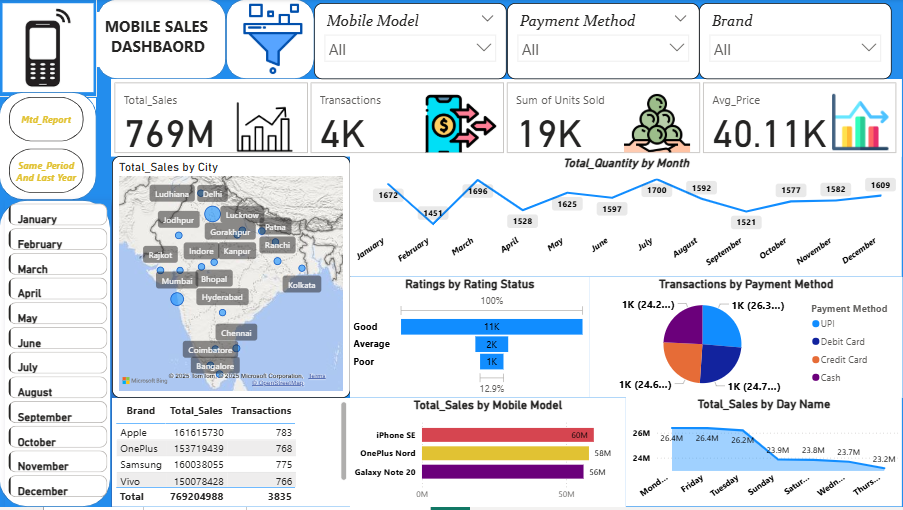

The page's visual inventory and layout, read from the dashboard file:
{"tool":"powerbi","page":{"name":"Dashboard","canvas":[1280,720],"ordinal":0},"visuals":[{"type":"image","box":[0,0,138.8,138.8],"z":0},{"type":"shape","box":[0,131.5,138.2,153.1],"z":1000},{"type":"shape","box":[0,285,158.3,435],"z":2000},{"type":"advancedSlicerVisual","fields":{"Values":["Custom_calender.Date.Variation.Date Hierarchy.Month"]},"box":[8.3,285,150,435],"z":3000},{"type":"cardVisual","fields":{"Data":["Sales_Data.Total_Sales","Sales_Data.Transactions","Sum(Sales_Data.Units Sold)","Sales_Data.Avg_Price"]},"box":[159.2,113.4,1120.8,110.1],"z":4000},{"type":"slicer","fields":{"Values":["Sales_Data.Mobile Model"]},"box":[447,5.1,272.6,108.4],"z":5000},{"type":"slicer","fields":{"Values":["Sales_Data.Payment Method"]},"box":[719.6,5.1,272.6,108.4],"z":6000},{"type":"slicer","fields":{"Values":["Sales_Data.Brand"]},"box":[992.2,5.1,272.6,108.4],"z":7000},{"type":"shape","box":[321.7,0,125.3,113.4],"z":8000},{"type":"image","box":[321.7,0,132.1,113.4],"z":9000},{"type":"shape","box":[138.8,0,182.9,113.4],"z":10000},{"type":"textbox","box":[138.8,18.6,172.7,77.9],"z":11000},{"type":"map","fields":{"Category":["Sales_Data.City"],"Size":["Sales_Data.Total_Sales"]},"box":[159.8,223,337.9,342.9],"z":12000},{"type":"lineChart","fields":{"Category":["Custom_calender.Date.Variation.Date Hierarchy.Month"],"Y":["Sales_Data.Total_Quantity"]},"box":[497.7,223,782.3,171.4],"z":13000},{"type":"funnel","title":"Ratings by Rating Status","fields":{"Category":["Sales_Data.Rating Status"],"Y":["Sum(Sales_Data.Customer Ratings)"]},"box":[497.7,394.5,339.6,171.4],"z":14000},{"type":"pieChart","fields":{"Category":["Sales_Data.Payment Method"],"Y":["Sales_Data.Transactions"]},"box":[837.2,394.5,442.8,171.4],"z":15000},{"type":"clusteredBarChart","fields":{"Y":["Sales_Data.Total_Sales"],"Category":["Sales_Data.Mobile Model"]},"box":[497.7,565.9,391.2,154.8],"z":16000},{"type":"areaChart","fields":{"Category":["Custom_calender.Day Name"],"Y":["Sales_Data.Total_Sales"]},"box":[888.8,564.3,391.2,154.8],"z":17000},{"type":"tableEx","fields":{"Values":["Sales_Data.Brand","Sales_Data.Total_Sales","Sales_Data.Transactions"]},"box":[160,566,338,154],"z":18000},{"type":"pageNavigator","box":[8.5,138.9,117.6,136.1],"z":19000}]}

Visuals, with their boxes in screenshot pixels (x1, y1, x2, y2), scaled from the page's 1280x720 canvas onto the 903x510 screenshot:
image: {"left": 0, "top": 0, "right": 98, "bottom": 98}
shape: {"left": 0, "top": 93, "right": 97, "bottom": 202}
shape: {"left": 0, "top": 202, "right": 112, "bottom": 509}
advancedSlicerVisual - Custom_calender.Date.Variation.Date Hierarchy.Month: {"left": 6, "top": 202, "right": 112, "bottom": 509}
cardVisual - Sales_Data.Total_Sales x Sales_Data.Transactions: {"left": 112, "top": 80, "right": 902, "bottom": 158}
slicer - Sales_Data.Mobile Model: {"left": 315, "top": 4, "right": 508, "bottom": 80}
slicer - Sales_Data.Payment Method: {"left": 508, "top": 4, "right": 700, "bottom": 80}
slicer - Sales_Data.Brand: {"left": 700, "top": 4, "right": 892, "bottom": 80}
shape: {"left": 227, "top": 0, "right": 315, "bottom": 80}
image: {"left": 227, "top": 0, "right": 320, "bottom": 80}
shape: {"left": 98, "top": 0, "right": 227, "bottom": 80}
textbox: {"left": 98, "top": 13, "right": 220, "bottom": 68}
map - Sales_Data.City x Sales_Data.Total_Sales: {"left": 113, "top": 158, "right": 351, "bottom": 401}
lineChart - Custom_calender.Date.Variation.Date Hierarchy.Month x Sales_Data.Total_Quantity: {"left": 351, "top": 158, "right": 902, "bottom": 279}
"Ratings by Rating Status" funnel: {"left": 351, "top": 279, "right": 591, "bottom": 401}
pieChart - Sales_Data.Payment Method x Sales_Data.Transactions: {"left": 591, "top": 279, "right": 902, "bottom": 401}
clusteredBarChart - Sales_Data.Total_Sales x Sales_Data.Mobile Model: {"left": 351, "top": 401, "right": 627, "bottom": 509}
areaChart - Custom_calender.Day Name x Sales_Data.Total_Sales: {"left": 627, "top": 400, "right": 902, "bottom": 509}
tableEx - Sales_Data.Brand x Sales_Data.Total_Sales: {"left": 113, "top": 401, "right": 351, "bottom": 509}
pageNavigator: {"left": 6, "top": 98, "right": 89, "bottom": 195}
